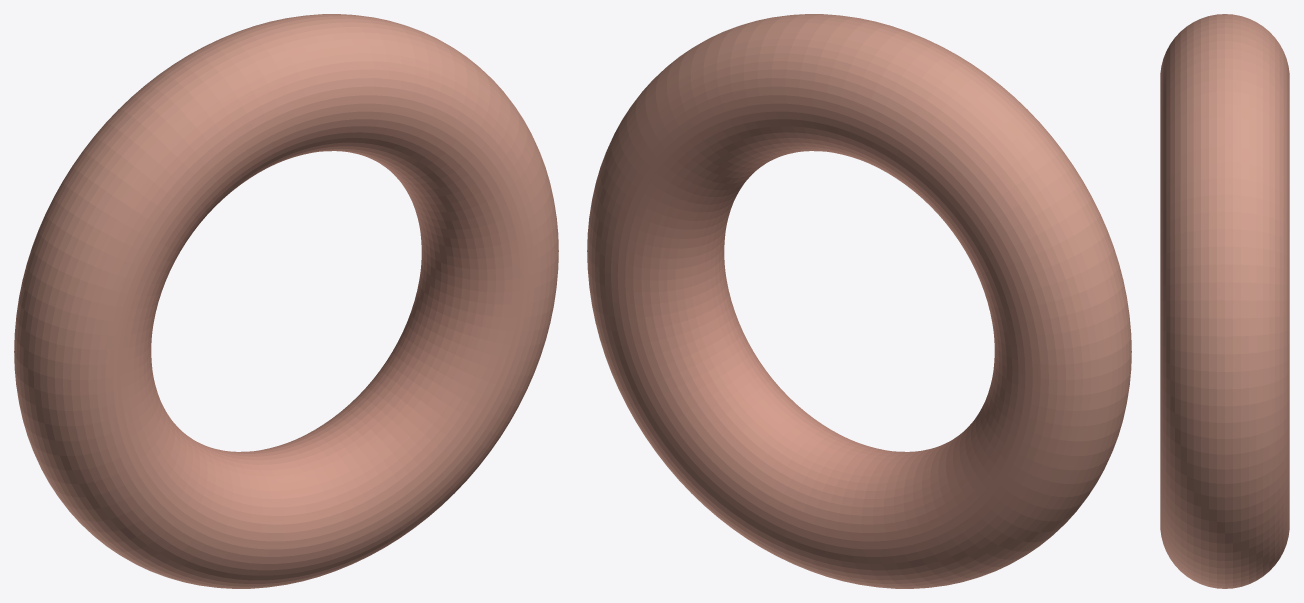
3 views of the same model, side by side, from view 1: azimuth 30°, elevation 25°; view 2: azimuth 150°, elevation 25°; view 3: azimuth 270°, elevation 25° (orthographic). The views are drawn at different scales.
Parts seen in each view (by area): view 1: world; view 2: world; view 3: world.
Part boxes in pixels (<box>): world: <box>14,14,558,588</box>; world: <box>587,14,1131,588</box>; world: <box>1160,14,1289,588</box>.
Size of the model in its own units: 30.13 by 30.13 by 6.79.
